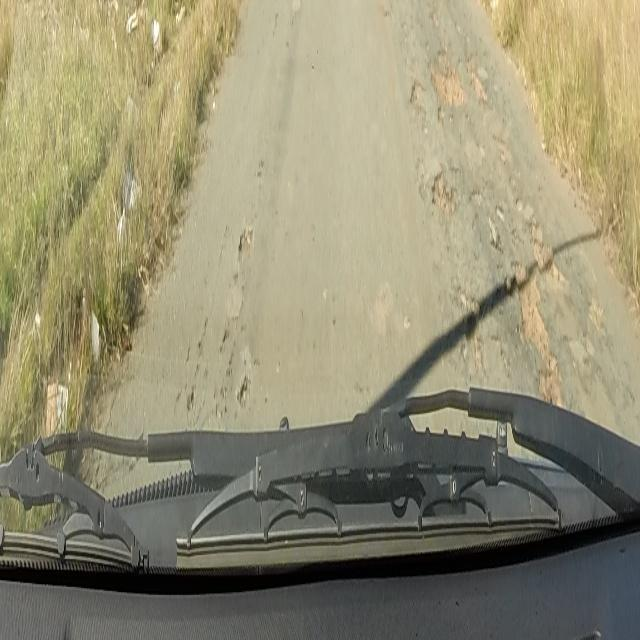pothole: (449, 239, 562, 409), (423, 157, 534, 215), (429, 54, 467, 112), (408, 73, 425, 109)
